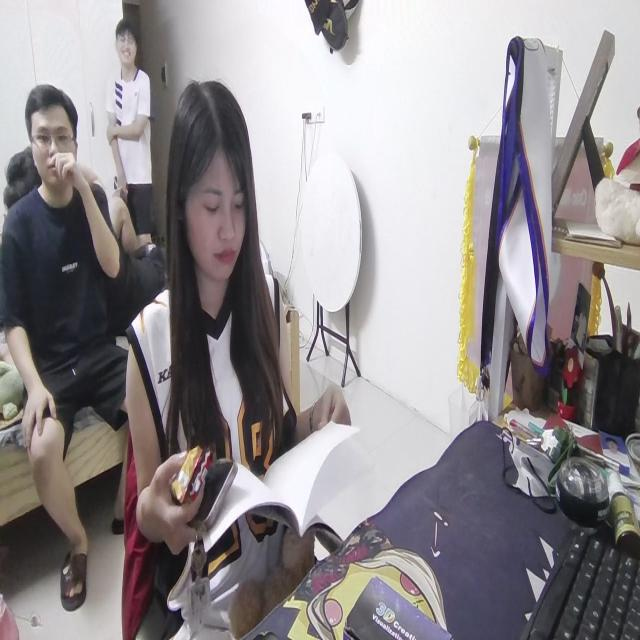book: (197, 417, 362, 548)
extra_person: (3, 80, 141, 604), (105, 20, 151, 241)
phone: (194, 451, 238, 530)
student: (125, 81, 356, 608)
